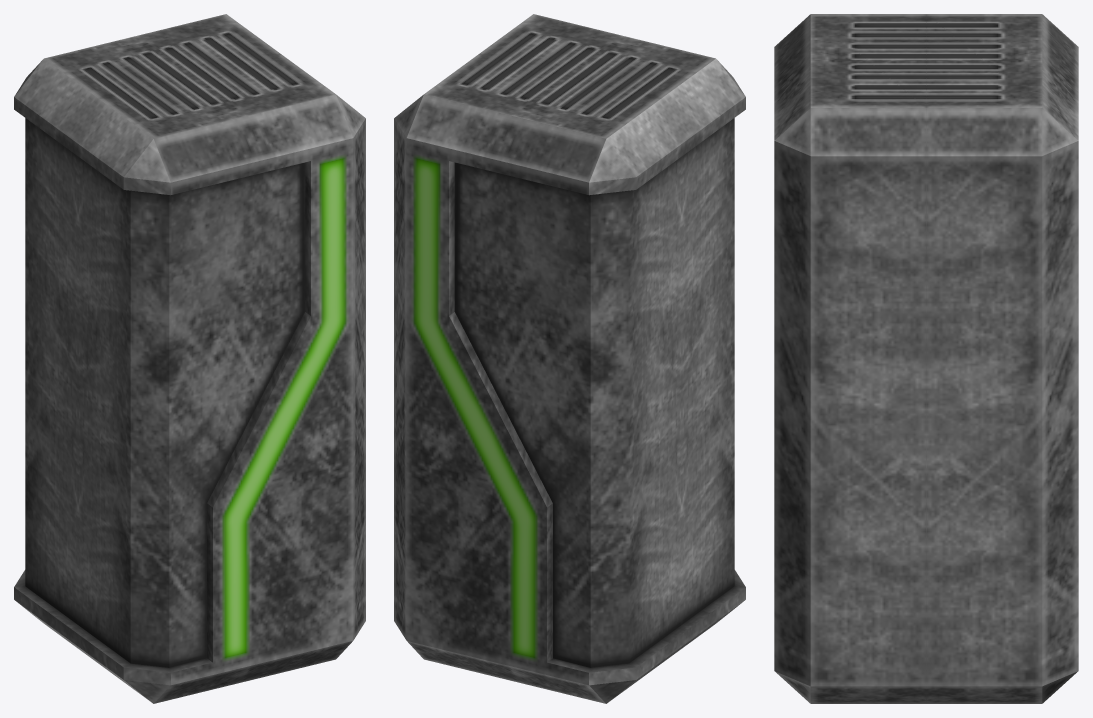
Rendered from item_weapon_01.fbx.
3 renders of one model, left to right at view 1: azimuth 30°, elevation 25°; view 2: azimuth 150°, elevation 25°; view 3: azimuth 270°, elevation 25°, orthographic. The views are drawn at different scales.
Parts seen in each view (by area): view 1: ItemWeaponProjectile; view 2: ItemWeaponProjectile; view 3: ItemWeaponProjectile.
Boxes of the visible parts, bbox=[...] form: ItemWeaponProjectile: bbox=[14, 14, 365, 703]; ItemWeaponProjectile: bbox=[394, 14, 745, 703]; ItemWeaponProjectile: bbox=[774, 14, 1078, 703].
Bounding box in the file's own units: 500 × 516 × 1115.
